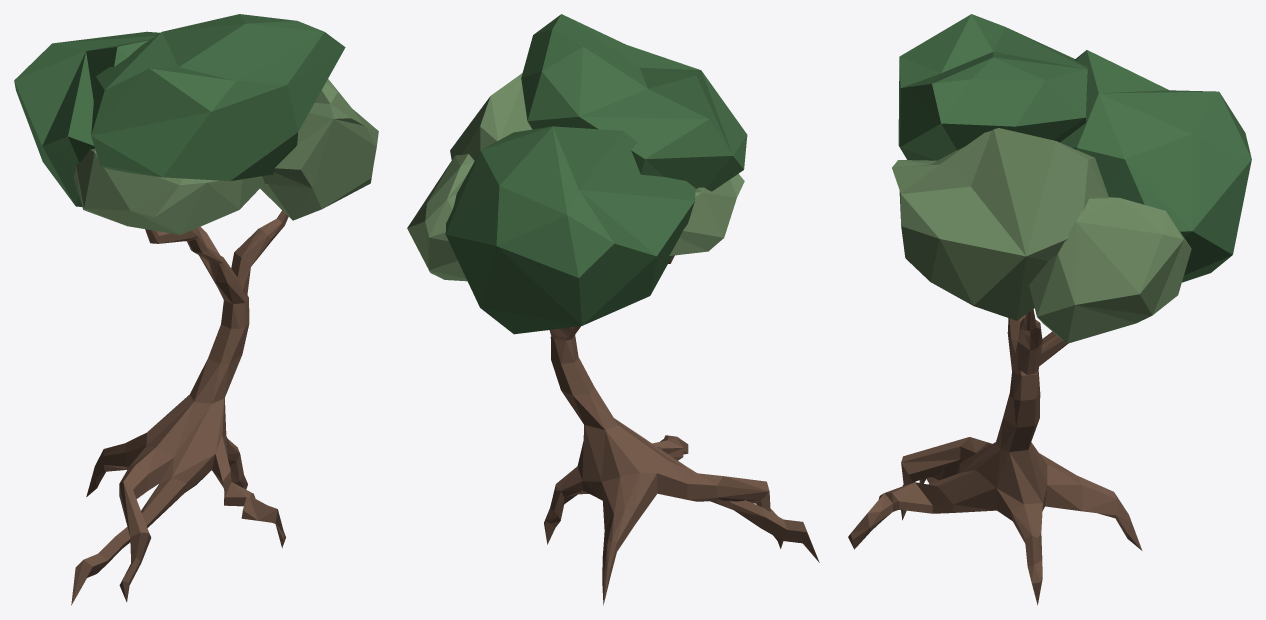
Rendered from _tree_7.fbx.
3 views of the same model, side by side, from view 1: azimuth 30°, elevation 25°; view 2: azimuth 150°, elevation 25°; view 3: azimuth 270°, elevation 25° (orthographic). The views are drawn at different scales.
Parts seen in each view (by area): view 1: tree_7; view 2: tree_7; view 3: tree_7.
Part boxes in pixels (x1,y1,x2,y2): tree_7: (14, 14, 378, 605); tree_7: (407, 14, 819, 605); tree_7: (848, 14, 1251, 605).
Size of the model in its own units: 376 by 551 by 368.
